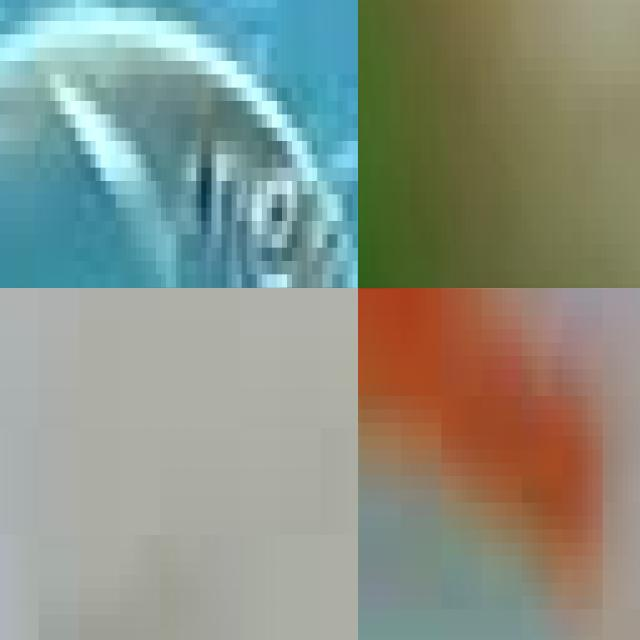fish: (0, 0, 358, 288)
